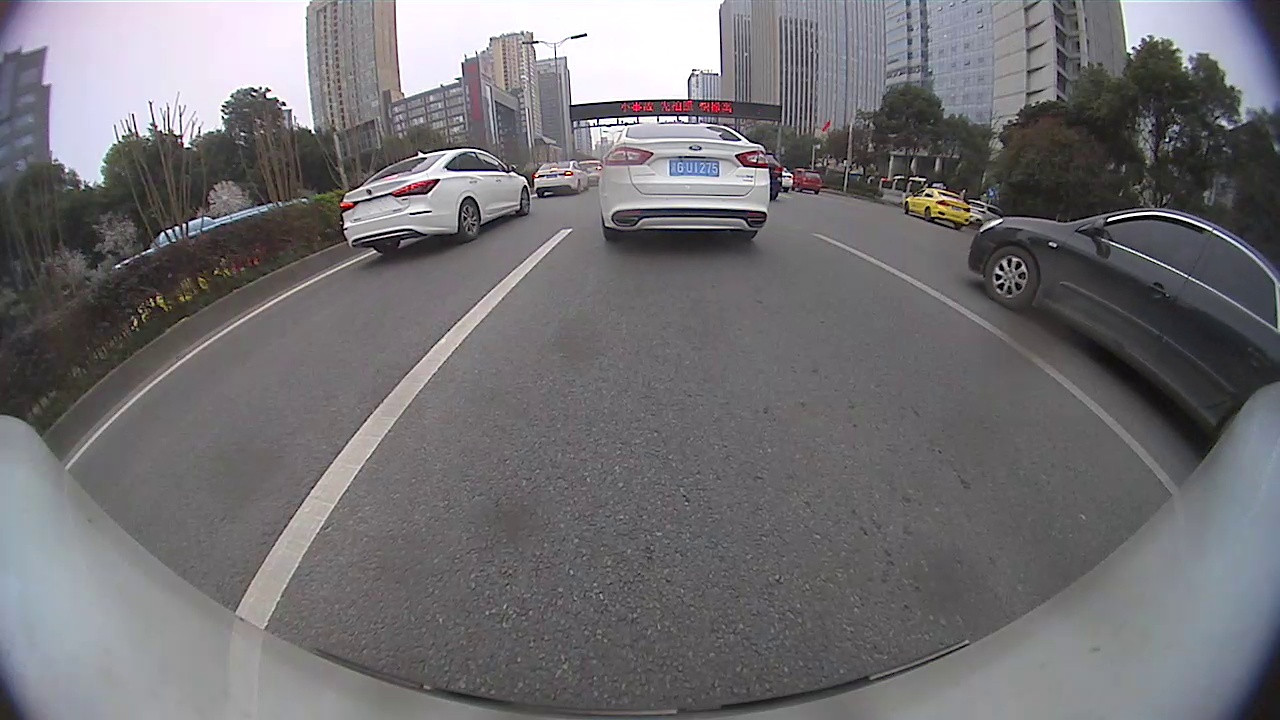car: (966, 204, 1278, 458), (597, 123, 771, 242), (339, 148, 533, 254), (903, 183, 972, 230), (533, 159, 589, 199)
front: (983, 242, 1039, 313), (516, 184, 536, 215)
rear: (455, 197, 485, 240)
